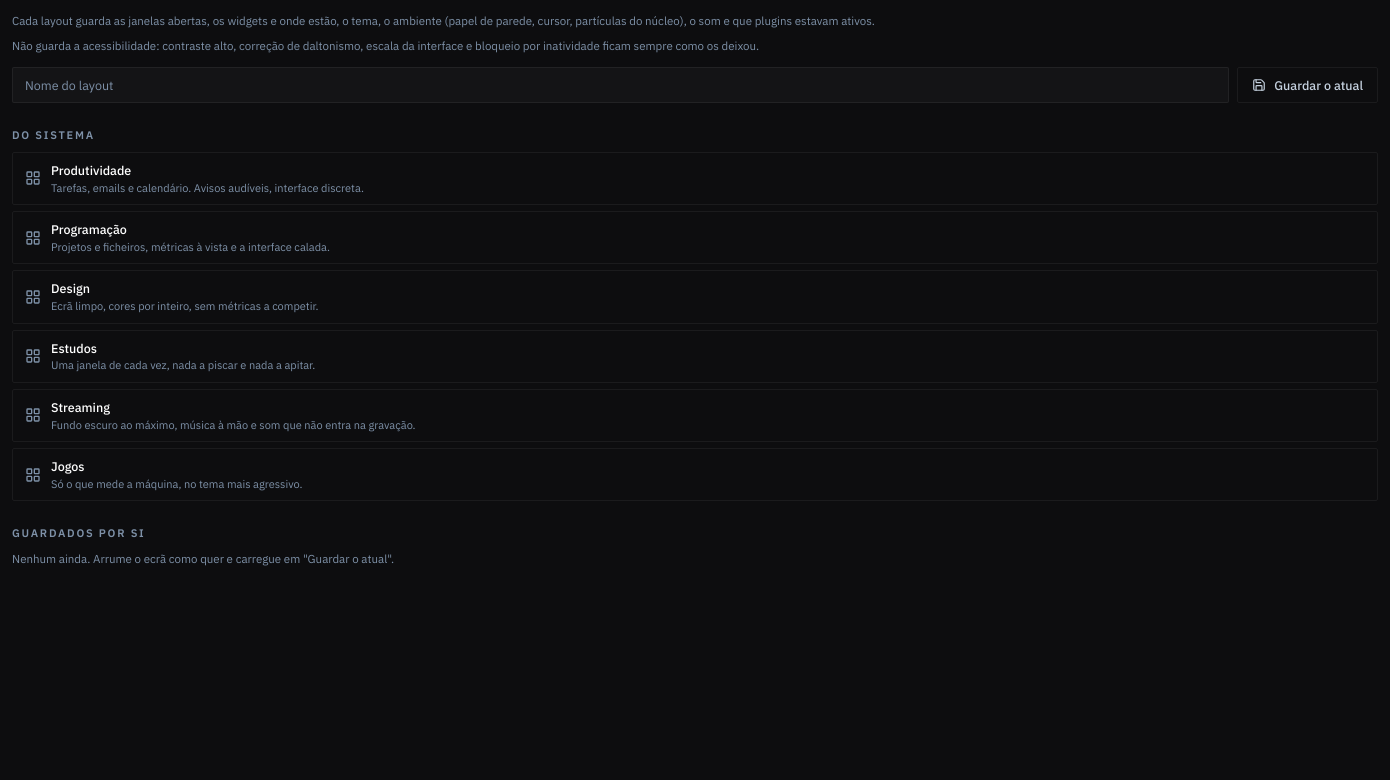
layouts guardados › os do sistema não têm botão de apagar; os meus têm
Step 1. Type "Manhã" into the field named "Nome do layout a guardar" → coordinates (621, 85), box [12,66,1229,103]
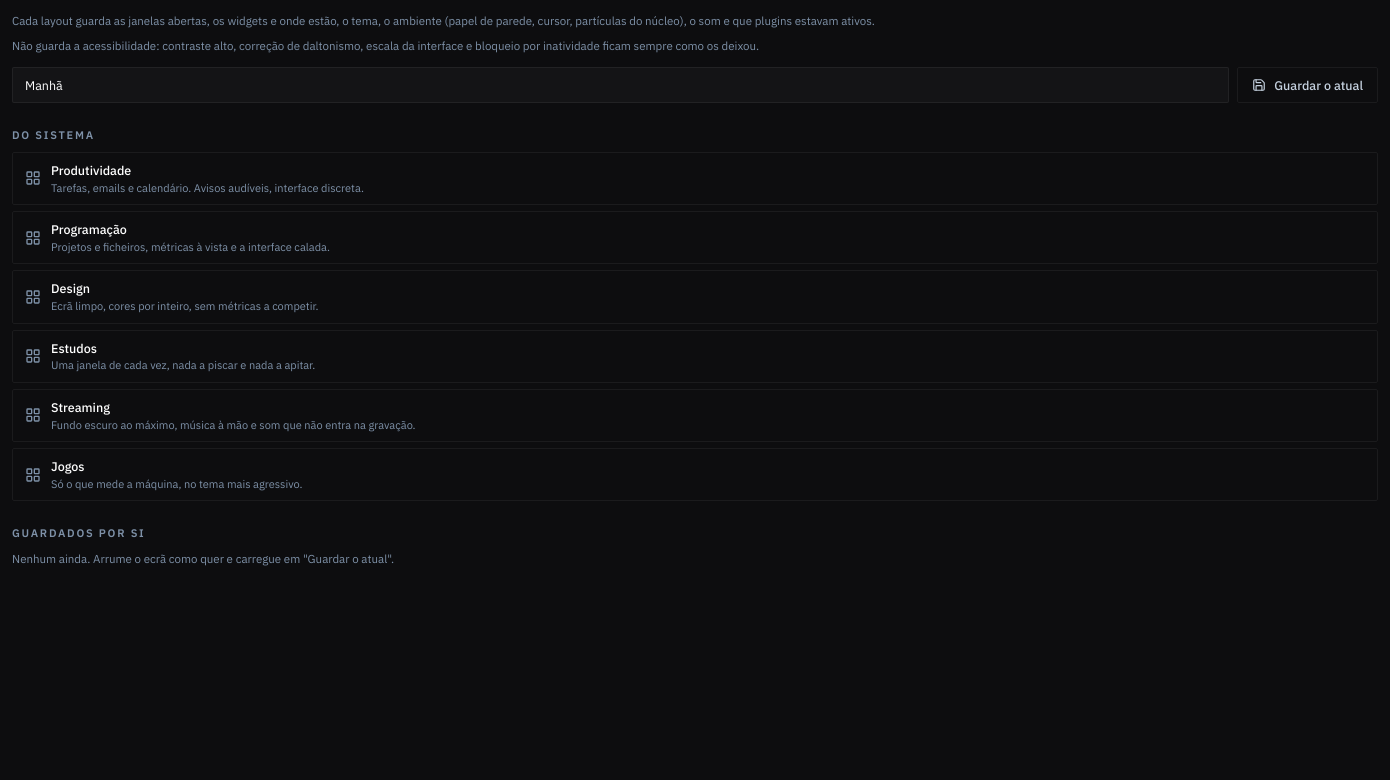
Step 2. Click the button "Guardar o atual" → coordinates (1308, 85), box [1237,66,1378,103]
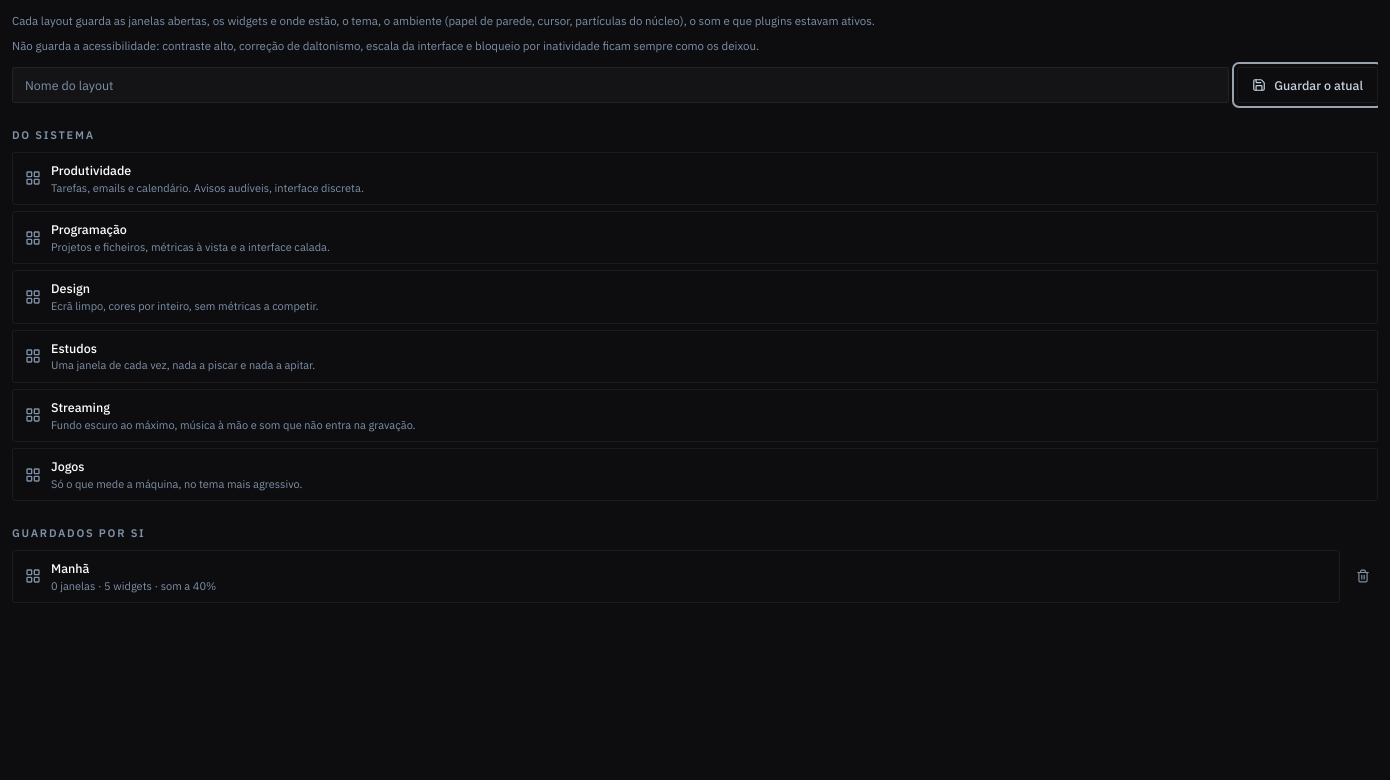
Step 3. Click the button named "Apagar o layout Manhã" → coordinates (1363, 576), box [1348,561,1378,591]
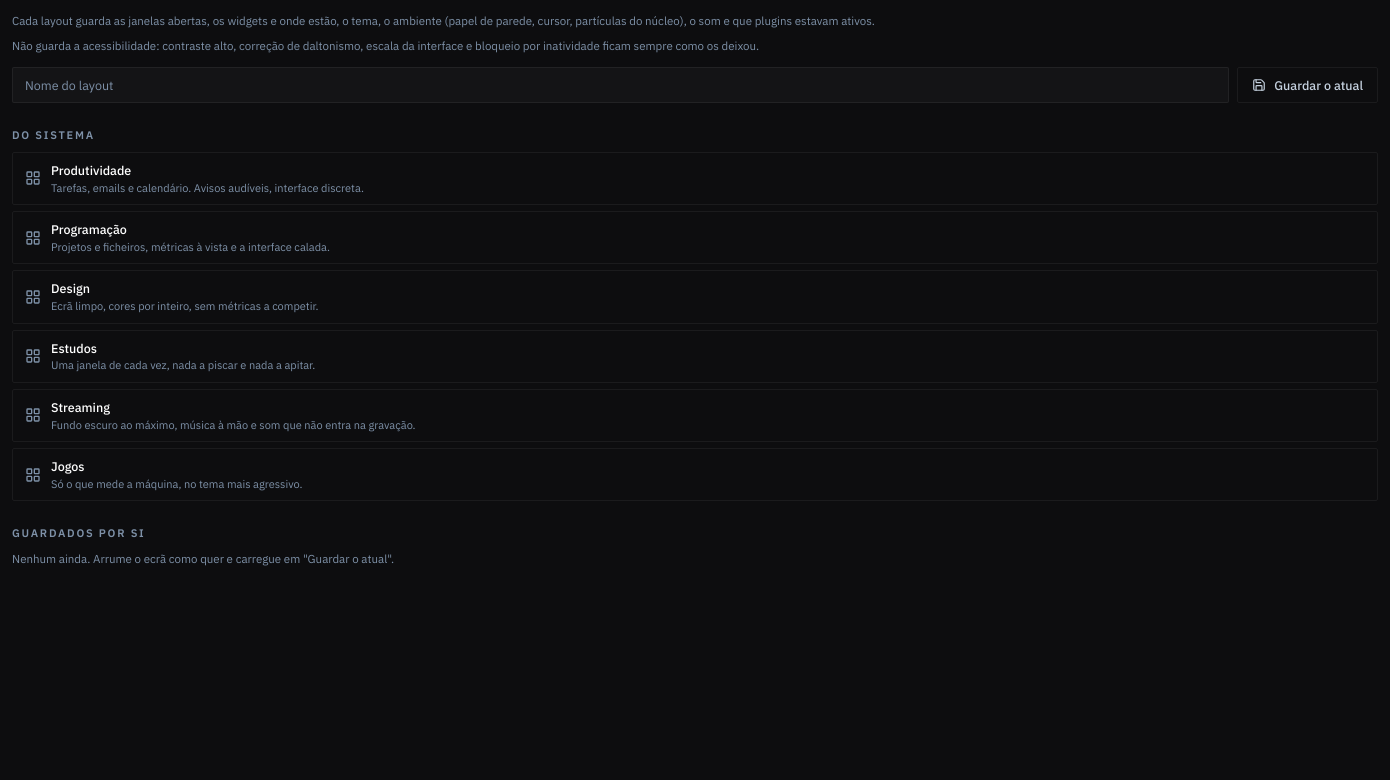
Check: the button "Manhã" is gone
